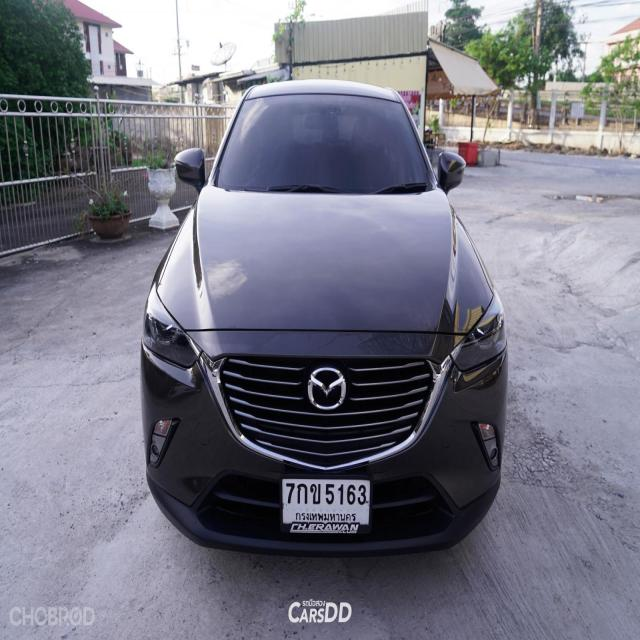license_plate: (276, 468, 378, 554)
